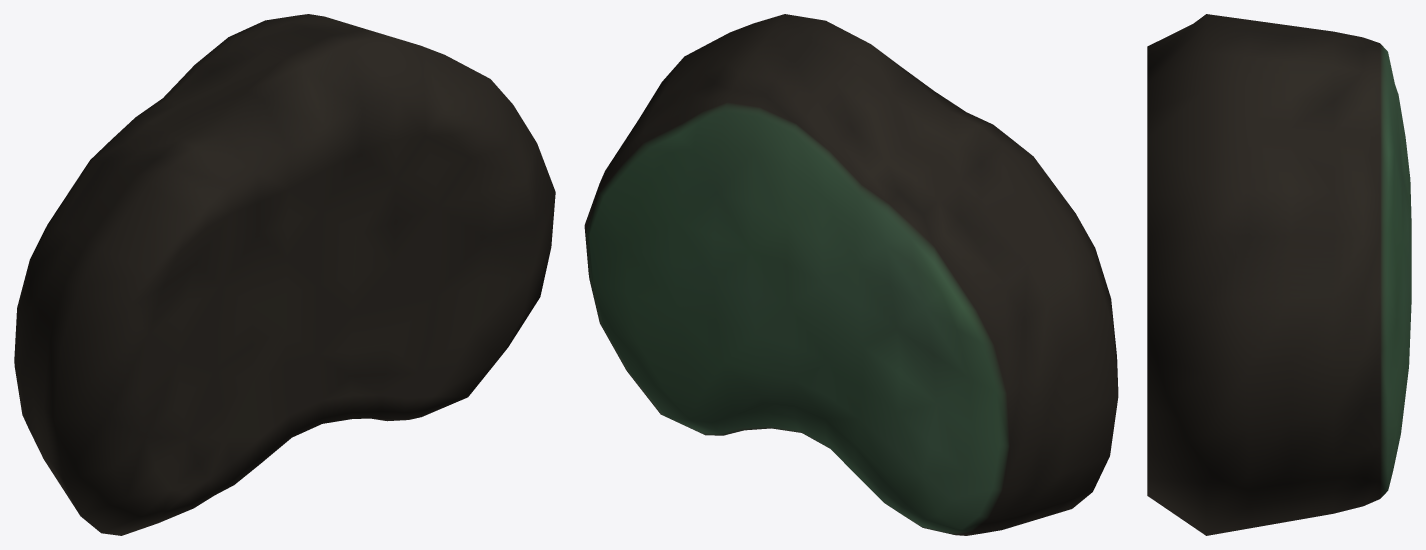
Rendered from GreenHillMedium.004.glb.
3 renders of one model, left to right at view 1: azimuth 30°, elevation 25°; view 2: azimuth 150°, elevation 25°; view 3: azimuth 270°, elevation 25°, orthographic. The views are drawn at different scales.
Parts seen in each view (by area): view 1: GreenHillMedium.004; view 2: GreenHillMedium.004; view 3: GreenHillMedium.004.
Part boxes in pixels (<box>): GreenHillMedium.004: <box>14,14,555,535</box>; GreenHillMedium.004: <box>584,14,1118,535</box>; GreenHillMedium.004: <box>1147,14,1411,535</box>.
Bounding box in the file's own units: 4455 × 3719 × 1750.
